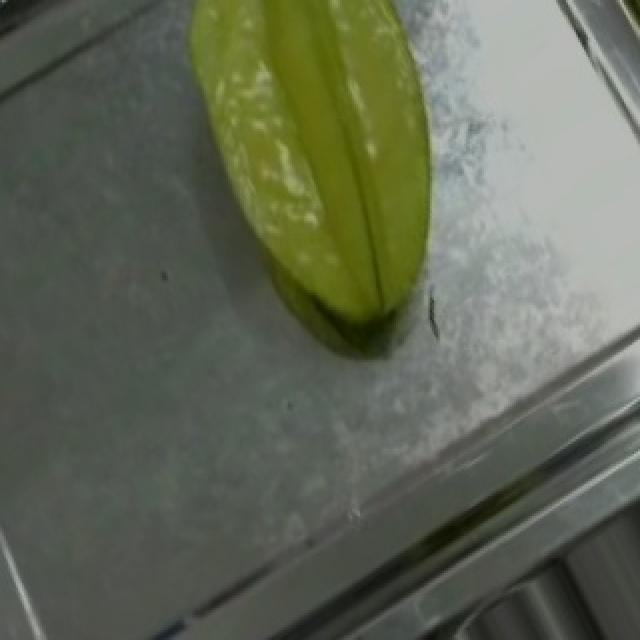fruit: (128, 0, 512, 335)
